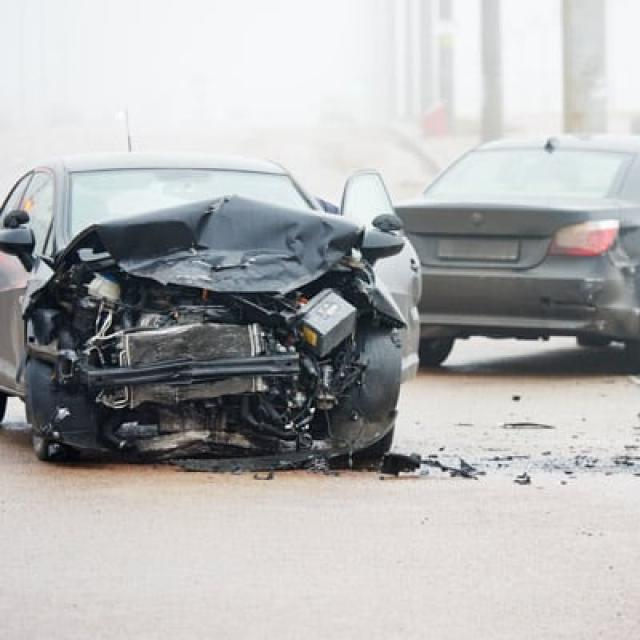crush: (17, 197, 411, 474)
